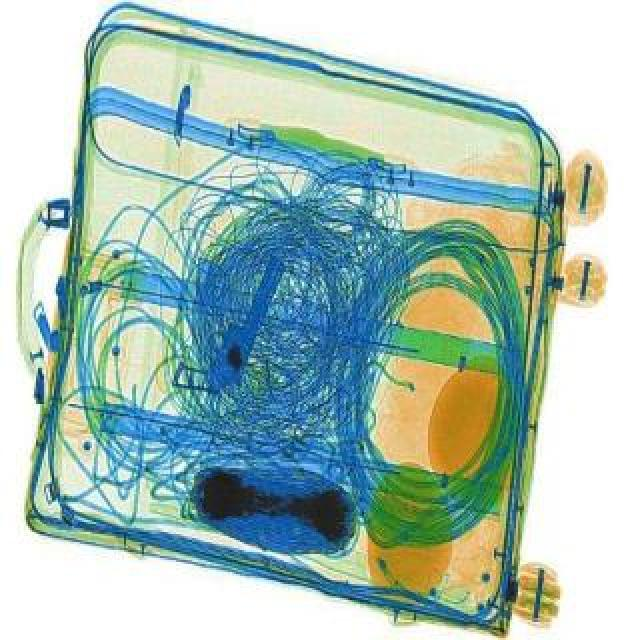gun: (168, 240, 288, 404)
